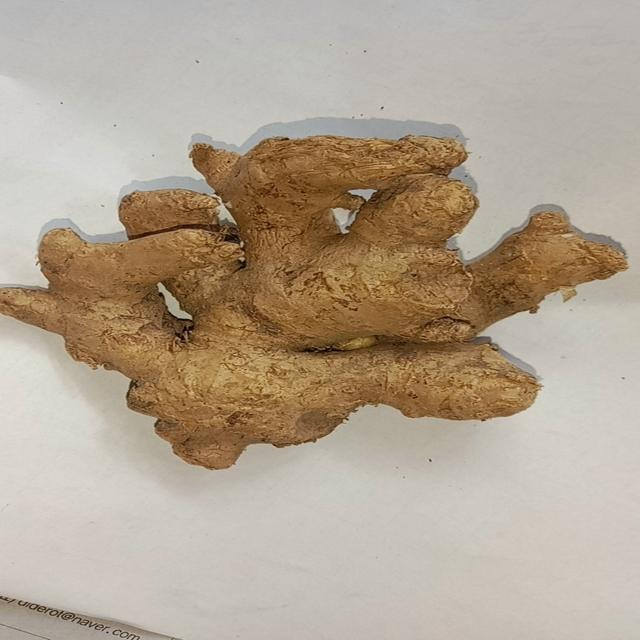ginger: (36, 133, 624, 470)
